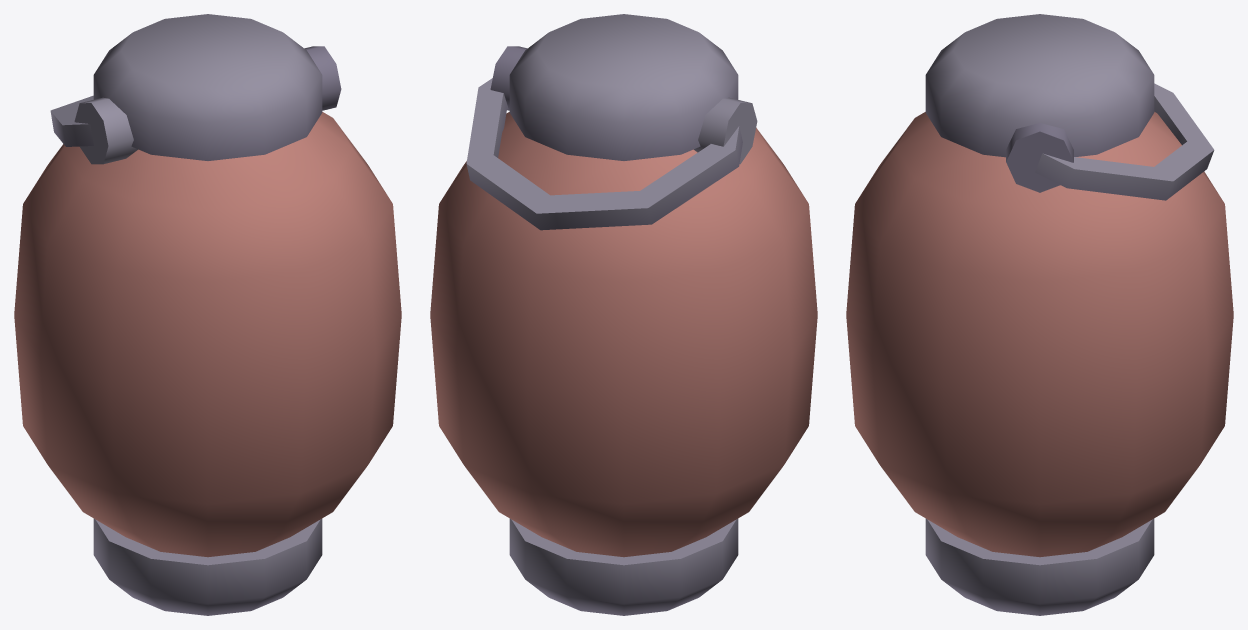
Rendered from lamp-lantern-paper.glb.
3 views of the same model, side by side, from view 1: azimuth 30°, elevation 25°; view 2: azimuth 150°, elevation 25°; view 3: azimuth 270°, elevation 25° (orthographic).
Parts seen in each view (by area): view 1: lamp-lantern-paper; view 2: lamp-lantern-paper; view 3: lamp-lantern-paper.
Boxes of the visible parts, x1,y1,x2,y2 form: lamp-lantern-paper: (14, 14, 401, 615); lamp-lantern-paper: (430, 14, 817, 615); lamp-lantern-paper: (846, 14, 1233, 615).
Bounding box in the file's own units: 0.286 × 0.4304 × 0.286.
